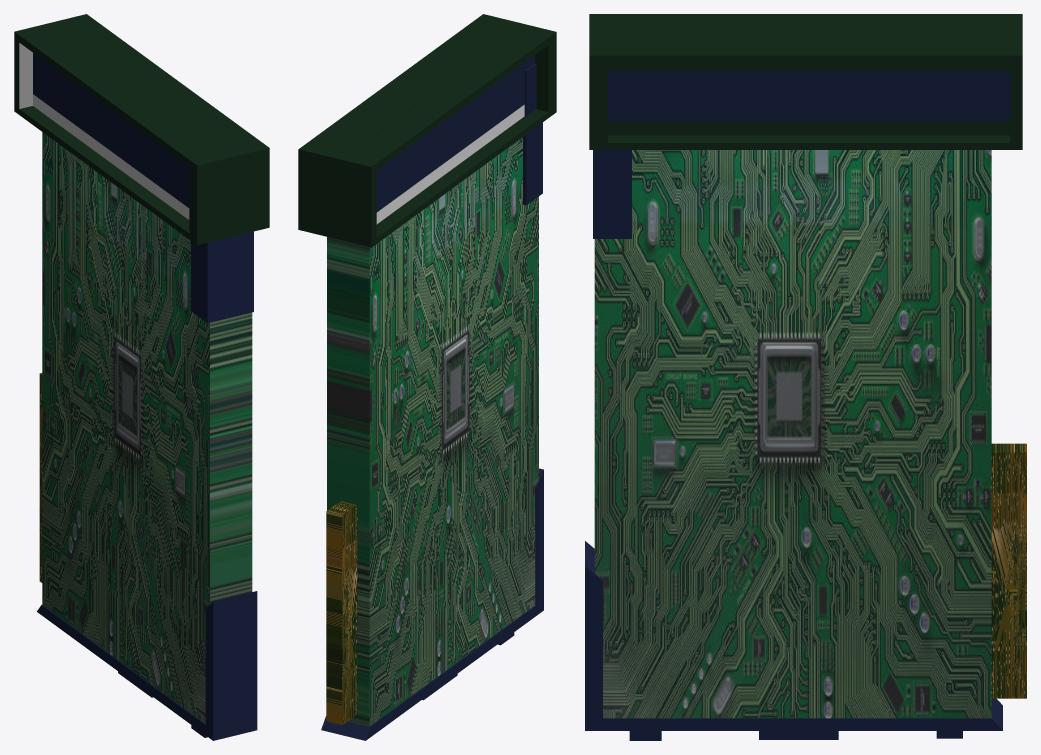
The model's file is tarjeta.fbx.
3 renders of one model, left to right at view 1: azimuth 30°, elevation 25°; view 2: azimuth 150°, elevation 25°; view 3: azimuth 270°, elevation 25°, orthographic. The views are drawn at different scales.
Parts seen in each view (by area): view 1: pCube31, pCube32, pCube33, pCube35, pCube34; view 2: pCube31, pCube32, pCube34, pCube33, pCube35; view 3: pCube31, pCube32, pCube33, pCube34, pCube35.
Boxes of the visible parts, x1=… form: pCube31: x1=42, y1=132, x2=252, y2=723; pCube32: x1=14, y1=14, x2=269, y2=245; pCube33: x1=37, y1=591, x2=257, y2=740; pCube35: x1=191, y1=231, x2=253, y2=323; pCube34: x1=39, y1=373, x2=42, y2=582; pCube31: x1=327, y1=137, x2=538, y2=726; pCube32: x1=298, y1=14, x2=556, y2=247; pCube34: x1=326, y1=500, x2=357, y2=724; pCube33: x1=321, y1=468, x2=543, y2=740; pCube35: x1=523, y1=63, x2=542, y2=205; pCube31: x1=594, y1=150, x2=991, y2=718; pCube32: x1=589, y1=14, x2=1022, y2=149; pCube33: x1=585, y1=541, x2=1002, y2=740; pCube34: x1=991, y1=443, x2=1026, y2=698; pCube35: x1=593, y1=150, x2=631, y2=238.
Bounding box in the file's own units: 0.00142 × 0.0111 × 0.00635.
